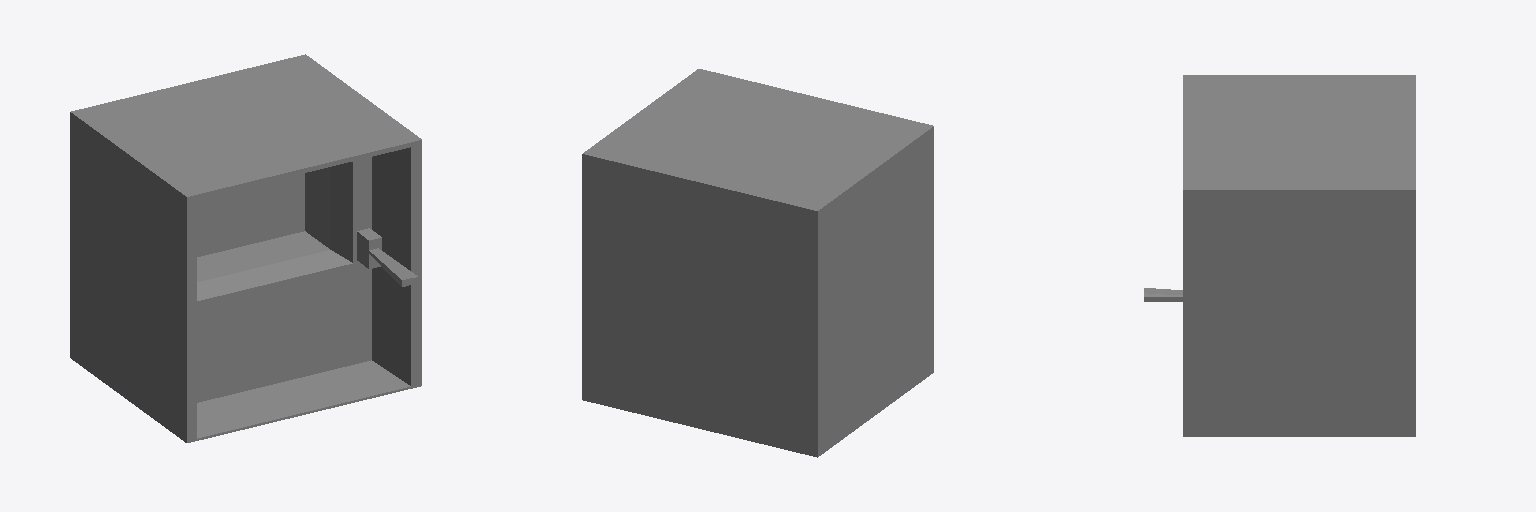
The model's file is door_normal_panels.obj.
3 views of the same model, side by side, from view 1: azimuth 30°, elevation 25°; view 2: azimuth 150°, elevation 25°; view 3: azimuth 270°, elevation 25° (orthographic).
Parts seen in each view (by area): view 1: Box018; view 2: Box018; view 3: Box018.
Boxes of the visible parts, box(x1,y1,x2,y2) form: Box018: box(70, 54, 421, 442); Box018: box(582, 69, 933, 457); Box018: box(1144, 75, 1415, 436).
Bounding box in the file's own units: 12.8 × 12.8 × 12.81.